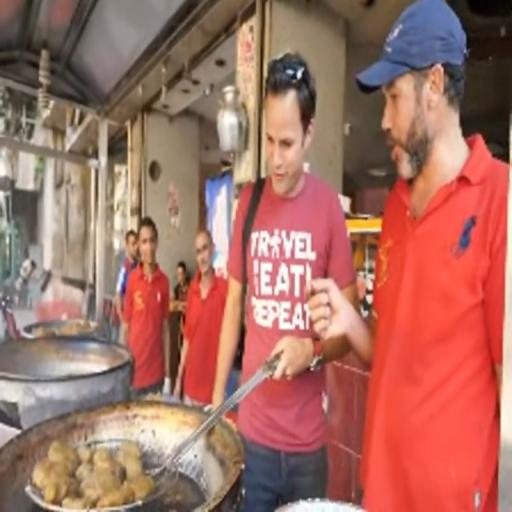nao-violencia: (208, 0, 512, 480)
